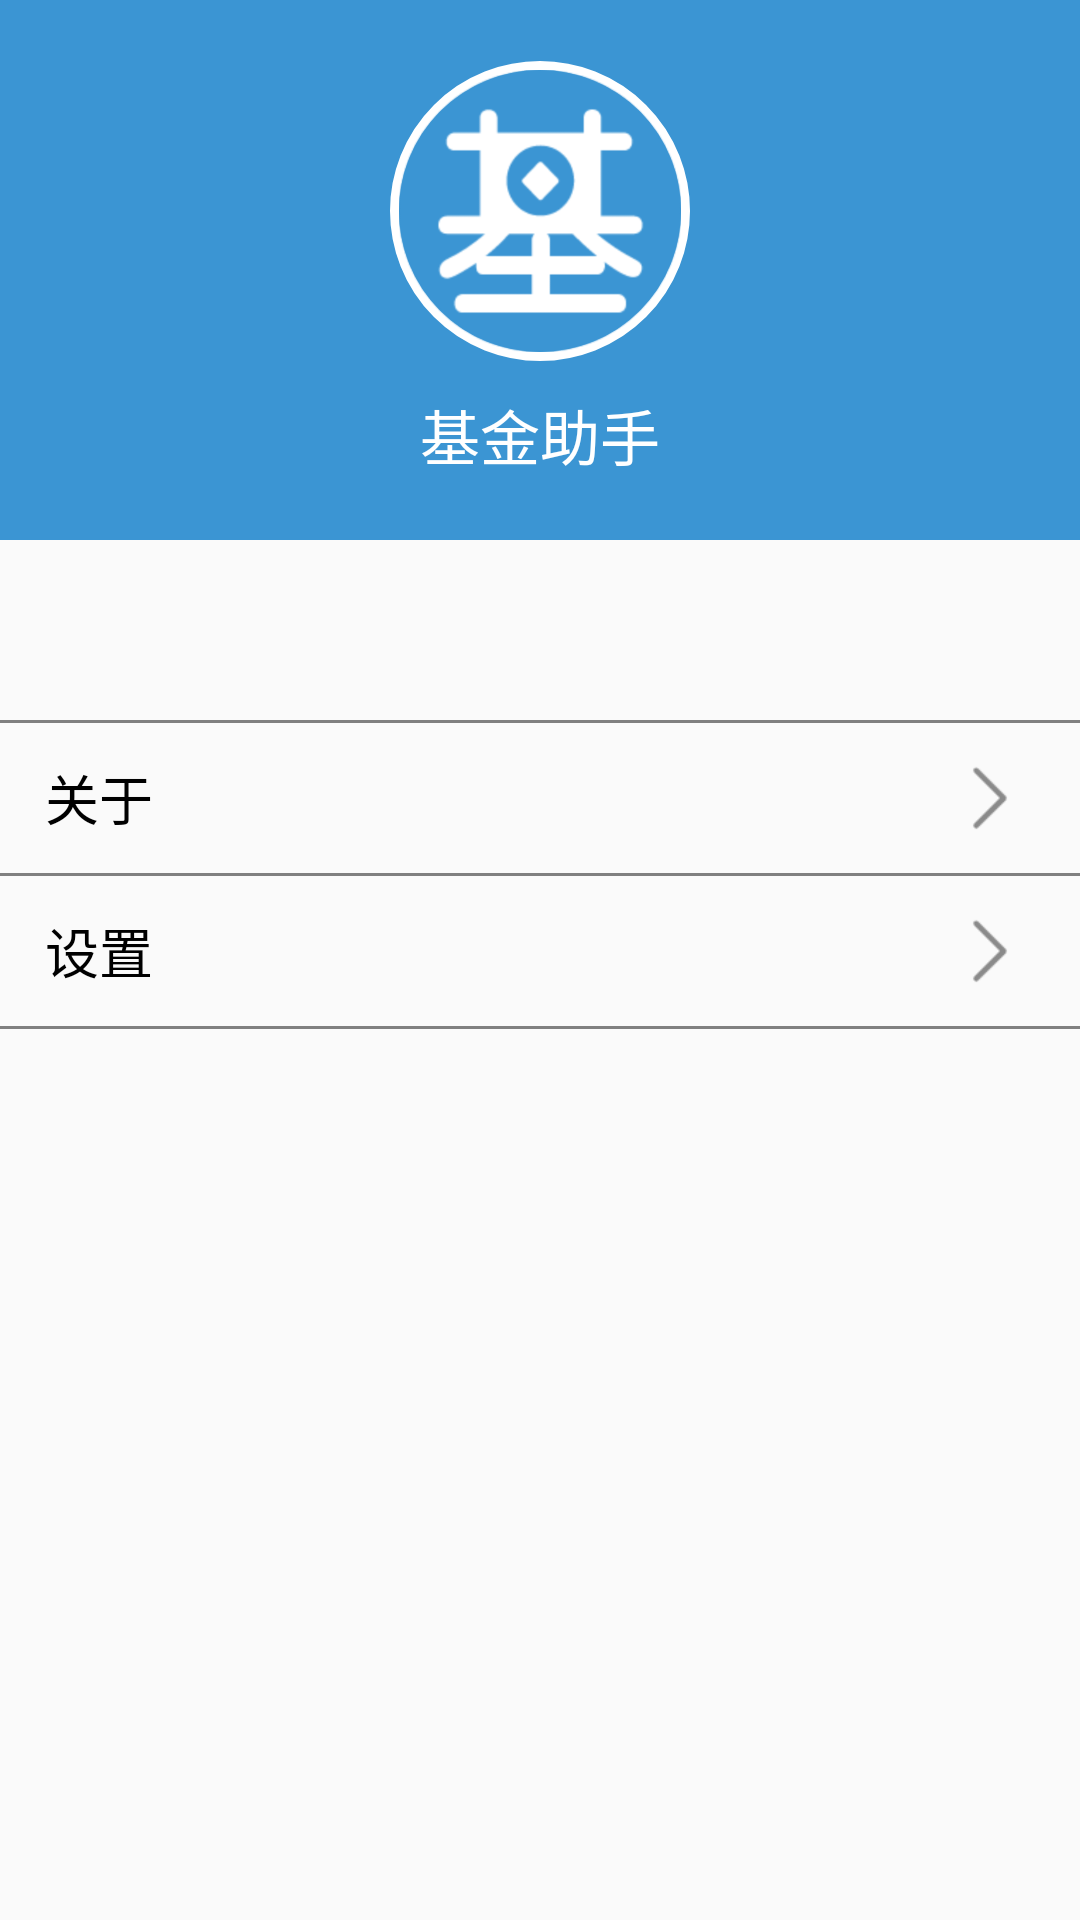

Screen size 1080*1920. Icon name, then its center in pixels as point (x, y):
arrow right: point (990, 798), point (990, 951)
